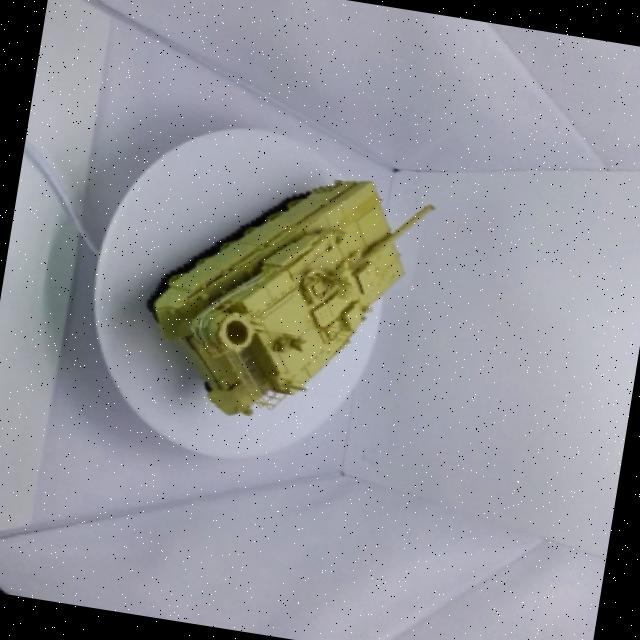korea tank: (119, 116, 468, 458)
